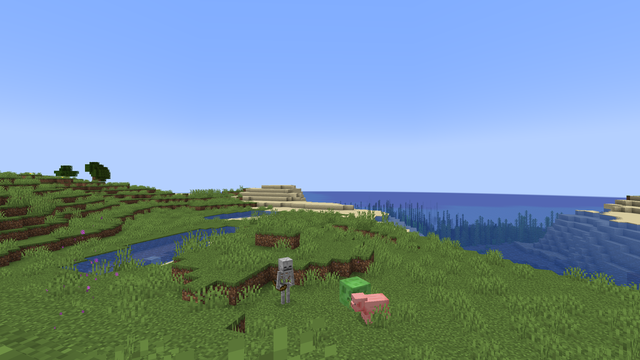cochons: (360, 290, 385, 326)
slimes: (340, 275, 367, 309)
squelettes: (276, 256, 293, 306)
